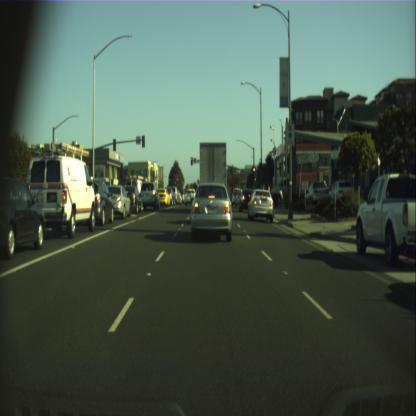Red: (252, 166, 256, 178), (254, 178, 256, 186)
RedLeft: (190, 156, 192, 165)
